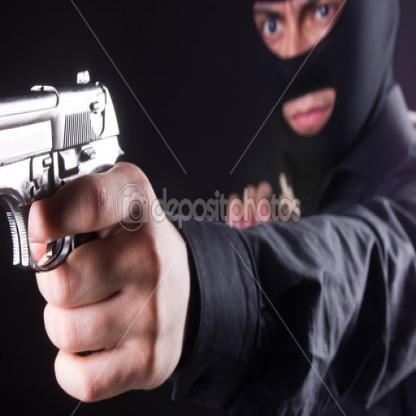gun: (0, 46, 138, 348)
